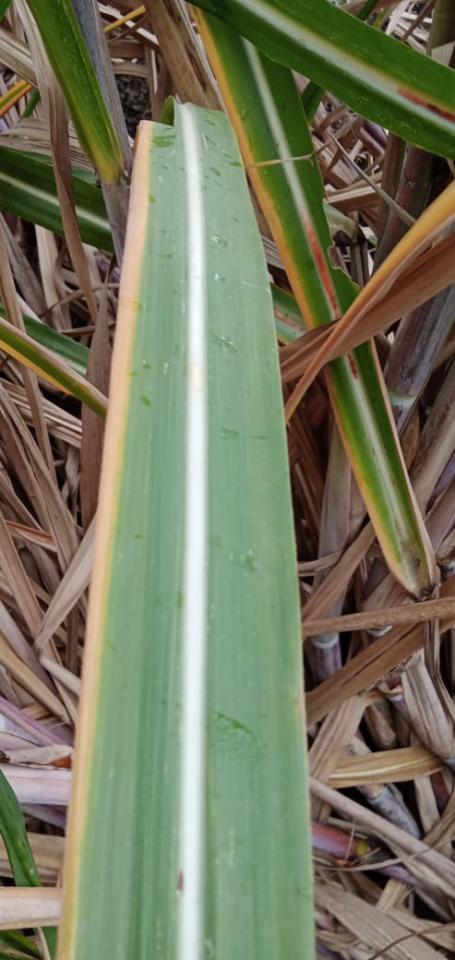RedRot: (303, 214, 343, 320), (396, 86, 454, 124), (347, 357, 361, 384)
Rust: (175, 869, 186, 893)
Yellow: (55, 120, 153, 959), (192, 3, 313, 330), (325, 367, 415, 592)
